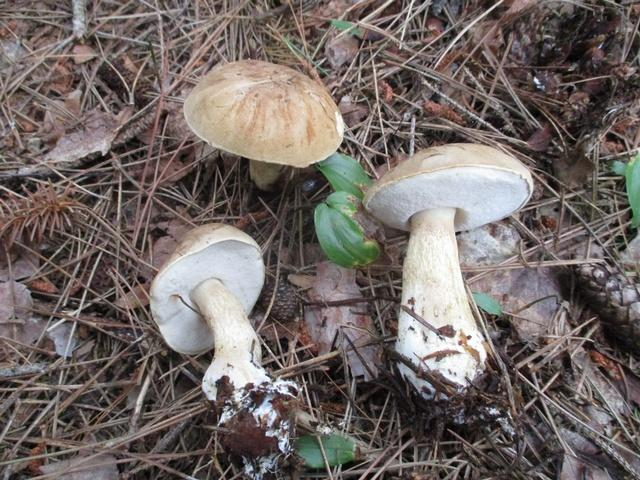Non-edible Mushroom: (361, 141, 534, 407), (148, 221, 300, 477), (182, 57, 345, 191)
